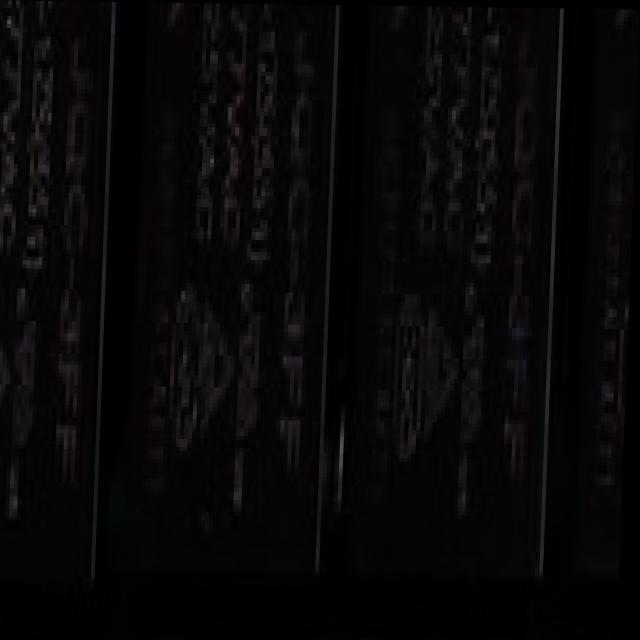relay: (125, 2, 352, 640), (349, 4, 572, 640), (0, 0, 124, 589), (561, 7, 640, 640)
